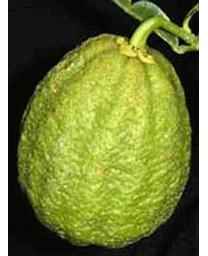lemon: (17, 32, 193, 248)
